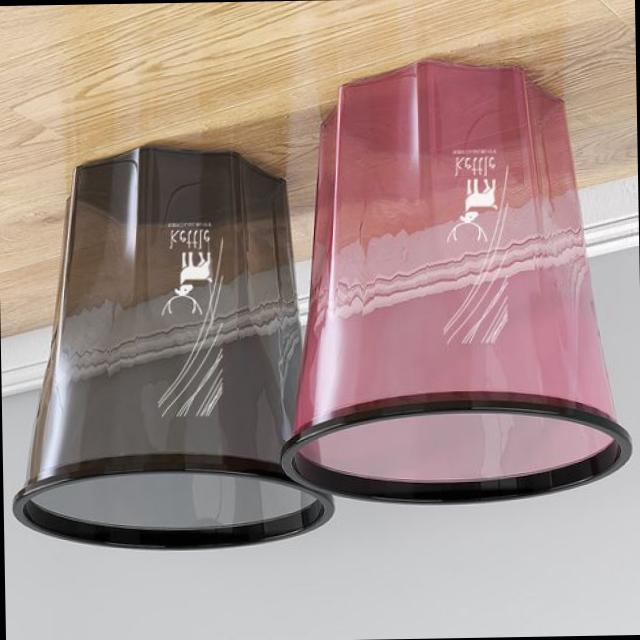dustbin: (271, 49, 638, 512), (4, 138, 340, 556)
